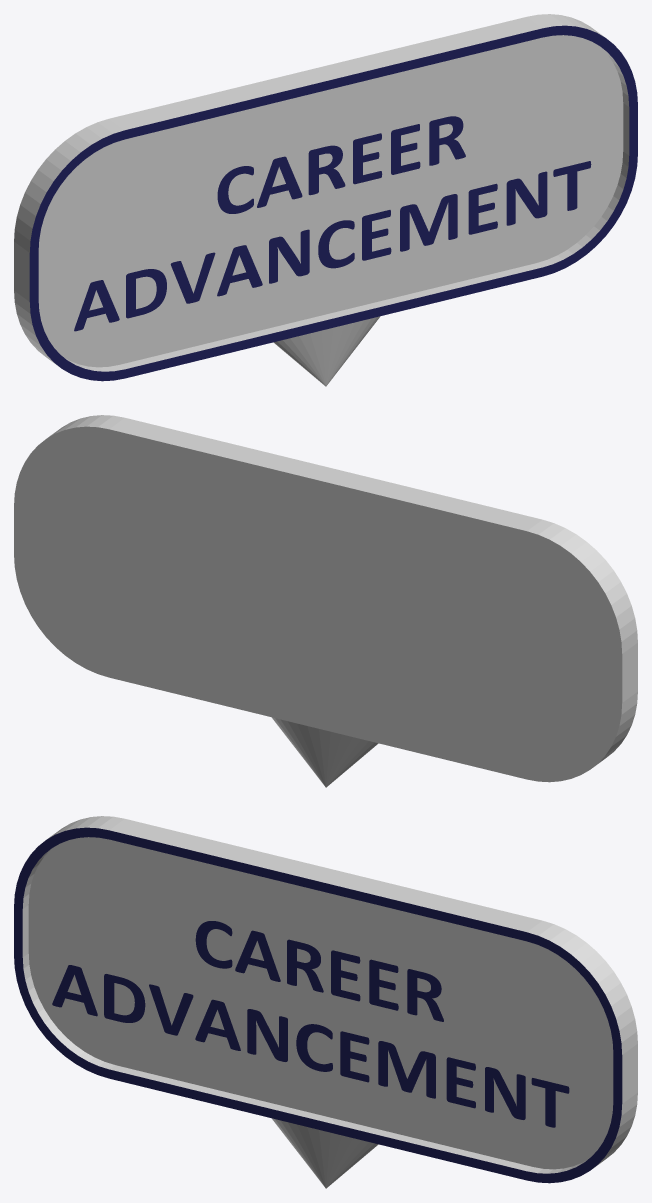
File: CareerAdvancedDefault.glb
3 views of the same model, one above another, from view 1: azimuth 30°, elevation 25°; view 2: azimuth 150°, elevation 25°; view 3: azimuth 330°, elevation 25° (orthographic).
Parts seen in each view (by area): view 1: 立方体, 文本, 立方体.001, 立方体.002, 立方体.004; view 2: 立方体, 立方体.003, 立方体.002, 立方体.004; view 3: 立方体, 文本, 立方体.001, 立方体.002, 立方体.004.
Part boxes in pixels (<box>): 立方体: <box>38,35,629,371</box>; 文本: <box>74,116,591,331</box>; 立方体.001: <box>29,25,637,381</box>; 立方体.002: <box>14,14,603,366</box>; 立方体.004: <box>273,316,380,386</box>; 立方体: <box>21,434,614,774</box>; 立方体.003: <box>14,426,622,782</box>; 立方体.002: <box>48,415,637,767</box>; 立方体.004: <box>271,717,378,787</box>; 立方体: <box>22,837,613,1173</box>; 文本: <box>52,921,569,1127</box>; 立方体.001: <box>14,827,622,1183</box>; 立方体.002: <box>48,816,637,1168</box>; 立方体.004: <box>271,1118,378,1188</box>.
Size of the model in its own units: 5.13 by 2.52 by 0.2745.
